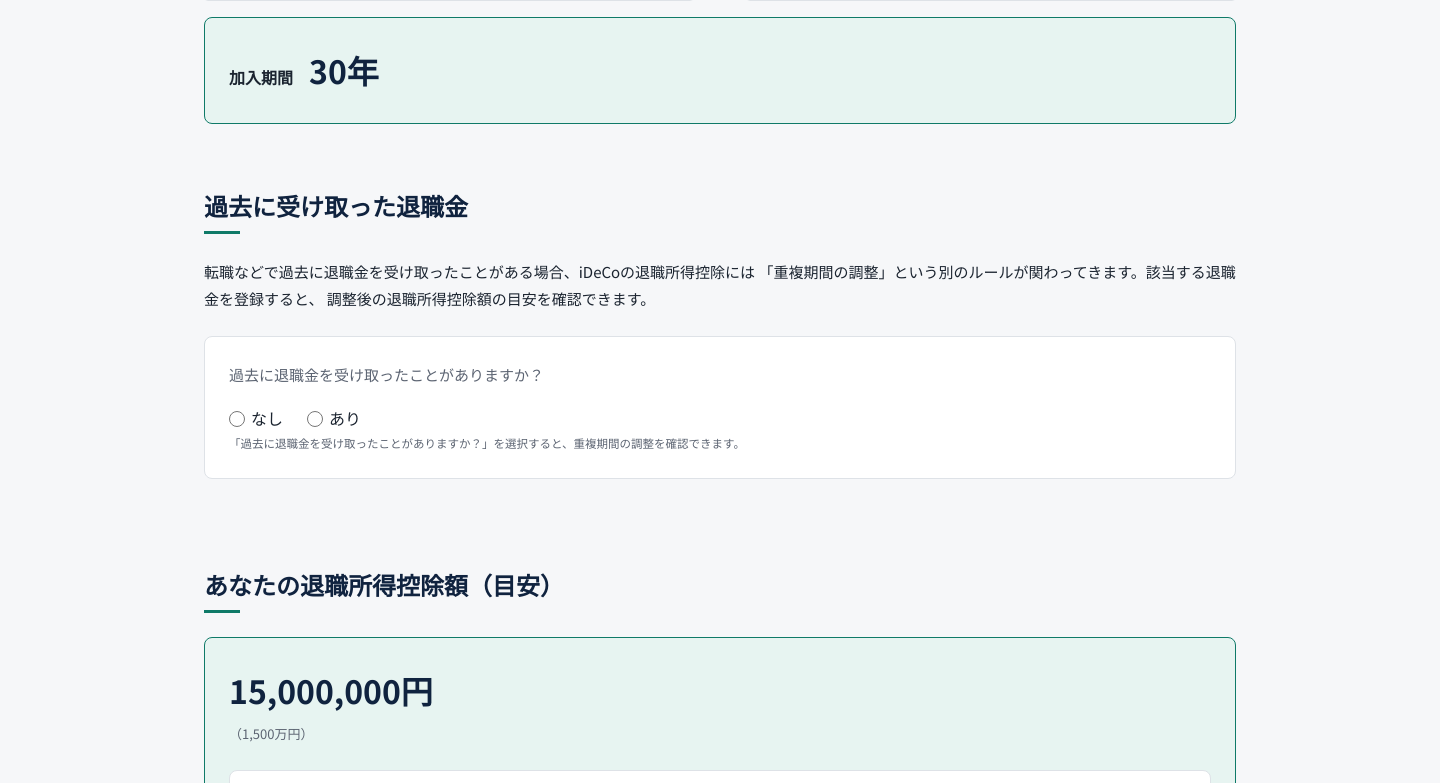
Test: 過去に退職金を受け取ったことがありますか：あり/なし › 「なし」を選択すると重複期間の調整はなく、シミュレーターの結果と同じ金額になる
This screenshot has width=1440, height=783.
(page scrolled)
Click the radio button labelled "なし". click: (237, 419)
box: [229, 411, 245, 427]
(page scrolled)
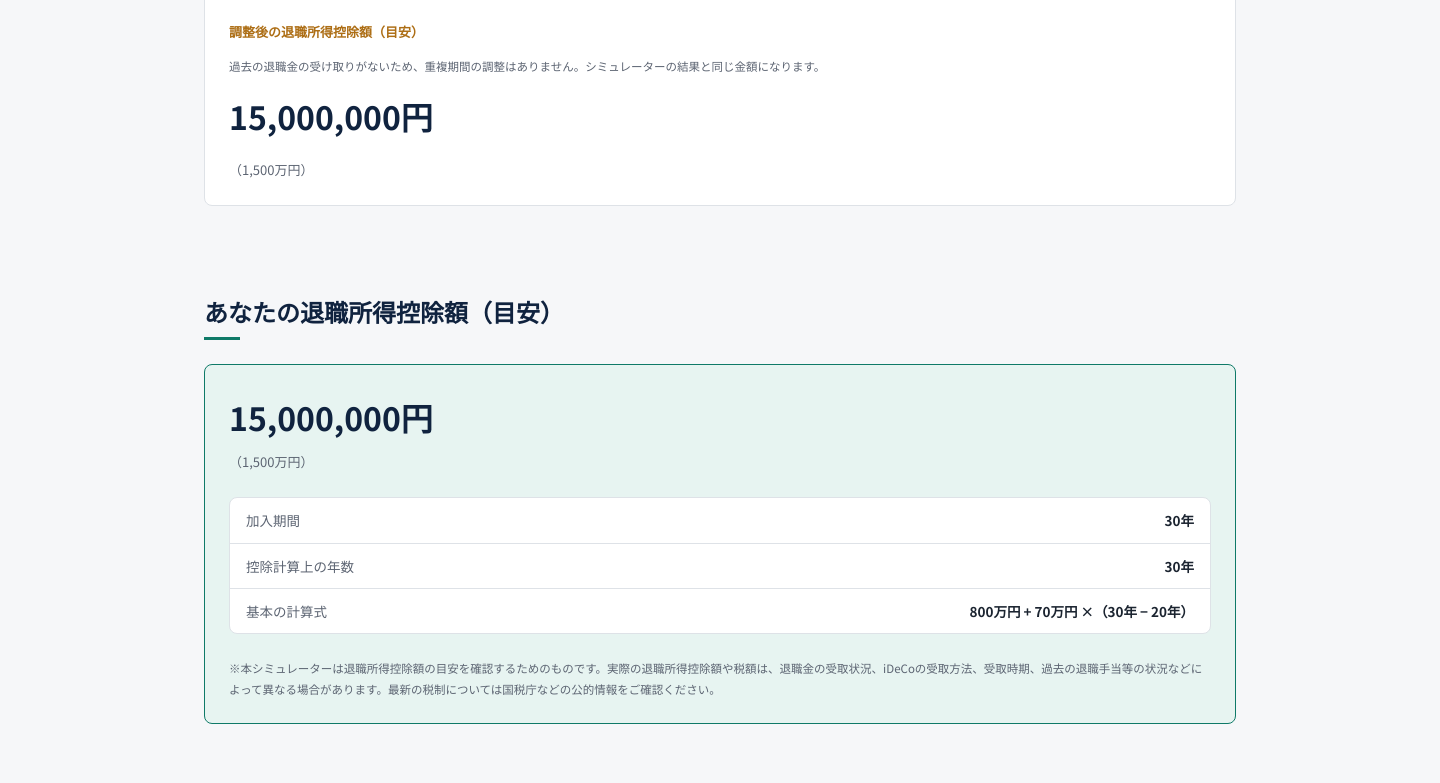
Expected: the text "15,000,000円" below "あなたの退職所得控除額（目安）" is shown, [229, 394, 433, 440]
Now the text "過去の退職金の受け取りがないため、重複期間の調整はありません。シミュレーターの結果と同じ金額になります。" is shown, box [229, 58, 825, 74]
Now the text "15,000,000円" below "調整後の退職所得控除額（目安）" is shown, box [229, 93, 433, 139]
